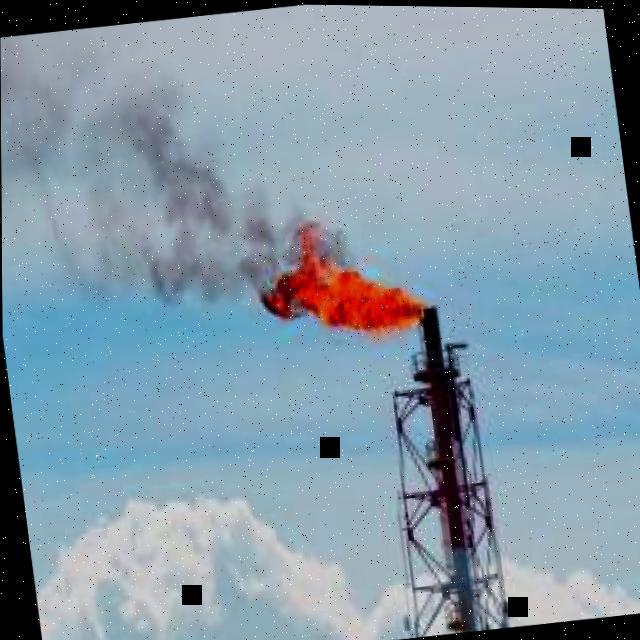fire: (261, 223, 425, 336)
smoke: (0, 20, 363, 305)
